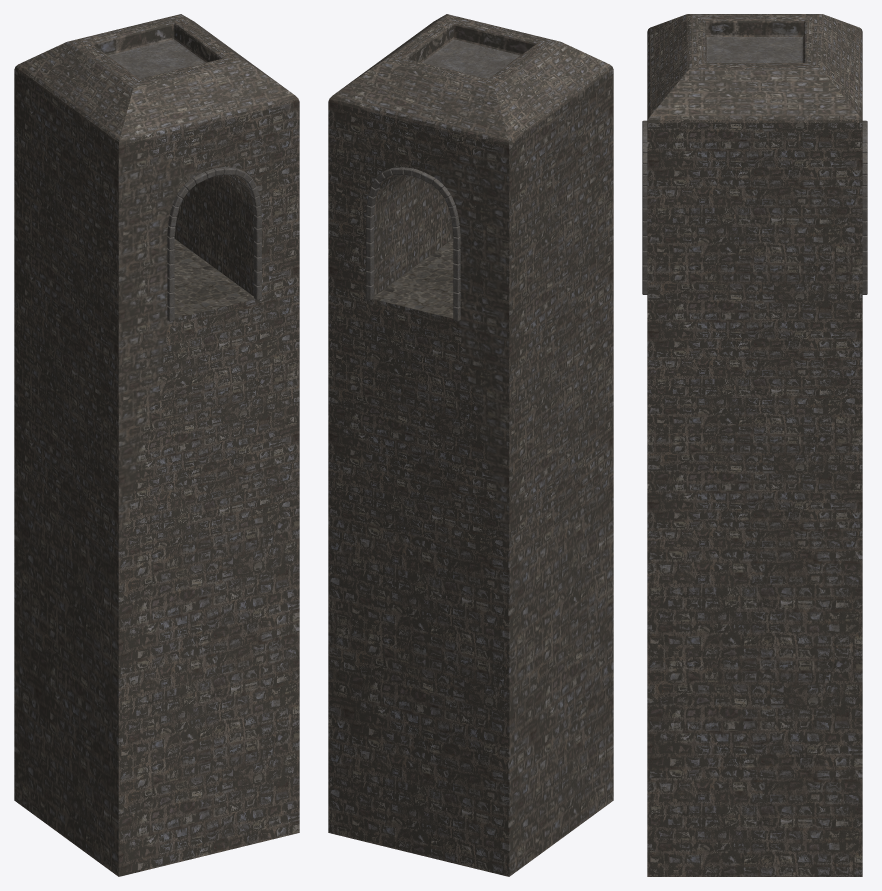
File: SmallTower.fbx
3 renders of one model, left to right at view 1: azimuth 30°, elevation 25°; view 2: azimuth 150°, elevation 25°; view 3: azimuth 270°, elevation 25°, orthographic. The views are drawn at different scales.
Parts seen in each view (by area): view 1: Small Tower; view 2: Small Tower; view 3: Small Tower.
Part boxes in pixels (<box>): Small Tower: <box>14,14,299,876</box>; Small Tower: <box>328,14,613,876</box>; Small Tower: <box>642,14,867,876</box>.
Size of the model in its own units: 373 by 1508 by 390.
